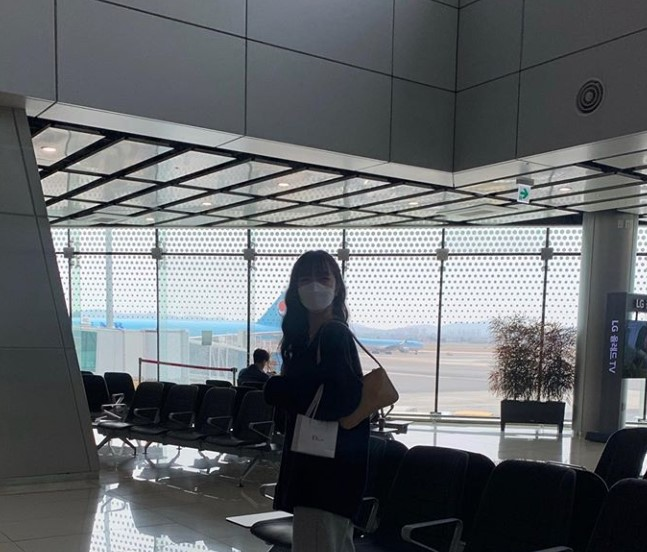face_with_mask: (294, 255, 339, 311)
